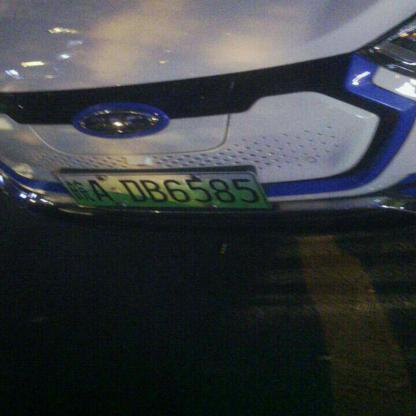lp: (57, 172, 78, 207)
